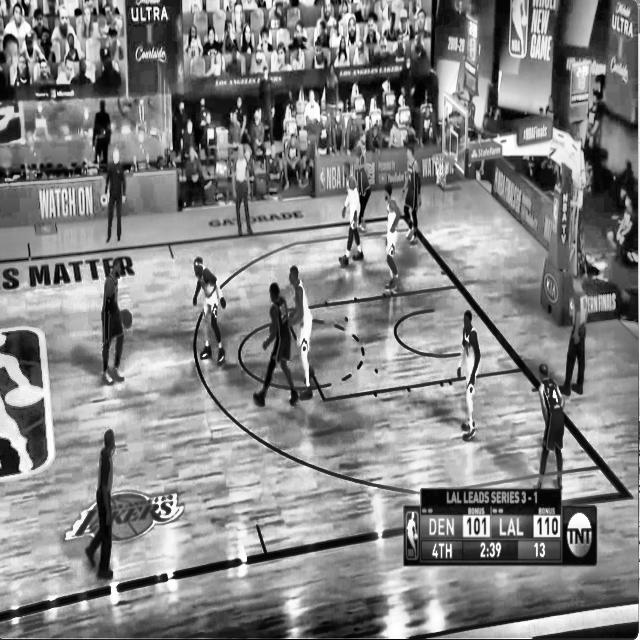Basketball: (120, 309, 131, 327)
